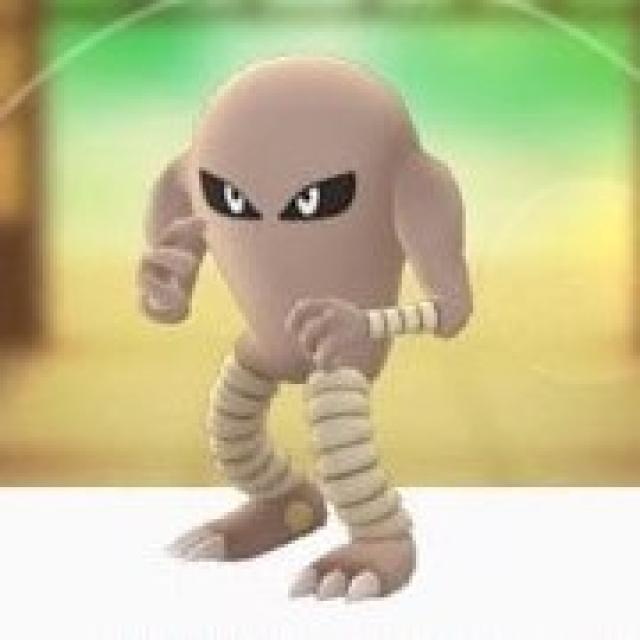Hitmonlee: (137, 52, 470, 598)
